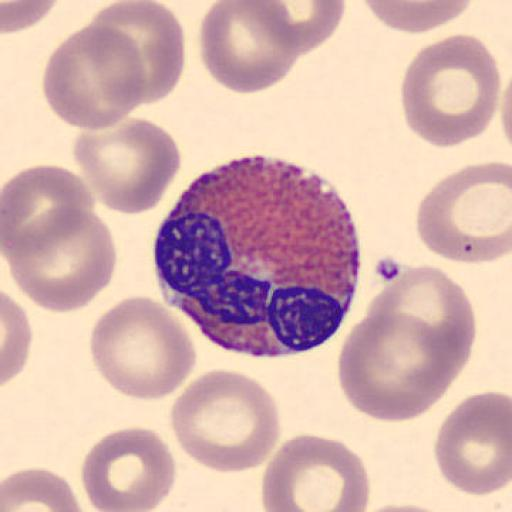RBC: (338, 262, 476, 422), (336, 307, 466, 422), (398, 32, 502, 150), (5, 206, 117, 314), (169, 368, 283, 474), (88, 293, 198, 402), (42, 22, 147, 132), (369, 262, 477, 366), (71, 116, 182, 216), (87, 0, 186, 106), (414, 160, 512, 266), (198, 0, 300, 96), (2, 162, 96, 264), (260, 433, 371, 512), (434, 389, 512, 498), (80, 426, 178, 512), (258, 0, 348, 54), (360, 0, 474, 35), (2, 467, 88, 512), (1, 289, 33, 388), (1, 0, 60, 34), (352, 499, 467, 512), (499, 70, 512, 150), (356, 502, 456, 512)
WBC: (150, 155, 362, 358)
